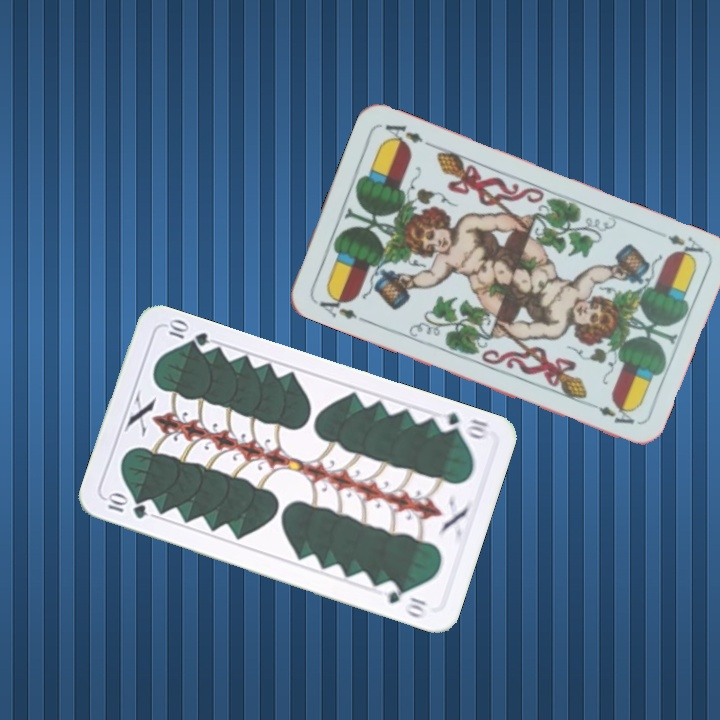EA: (311, 289, 368, 324), (663, 230, 707, 263)
G10: (432, 408, 492, 442), (102, 490, 150, 522)
